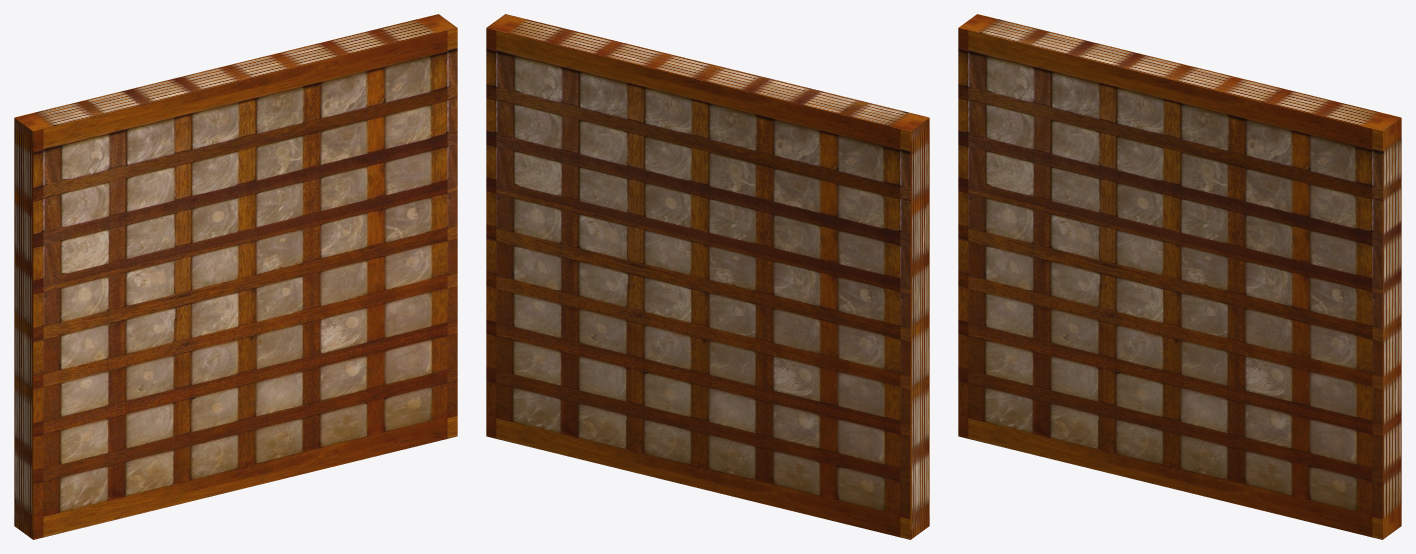
File: wood_pannels.fbx
The picture shows the model from 3 angles, left to right: view 1: azimuth 30°, elevation 25°; view 2: azimuth 150°, elevation 25°; view 3: azimuth 330°, elevation 25°; orthographic projection.
Visible parts, largest first — view 1: window.012; view 2: window.012; view 3: window.012.
Part boxes in pixels (x1,y1,x2,y2): window.012: (14,14,457,539); window.012: (486,14,929,539); window.012: (958,14,1401,539).
Size of the model in its own units: 81.75 by 75.16 by 6.38.
1 material, 1 textured.
